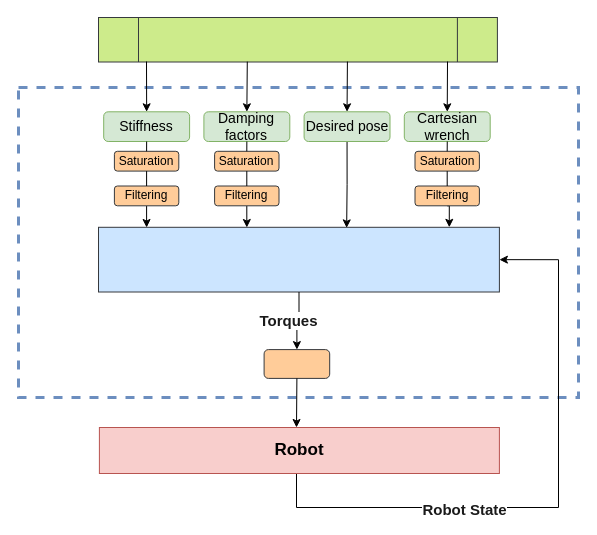
The diagram is 597 pixels wide and 535 high, and some of its shapes have lost their labels. Each missing label, with the centre of its shape:
Controller: the point at 298,259
Rate limiter: the point at 296,363
User Interface: the point at 297,39
